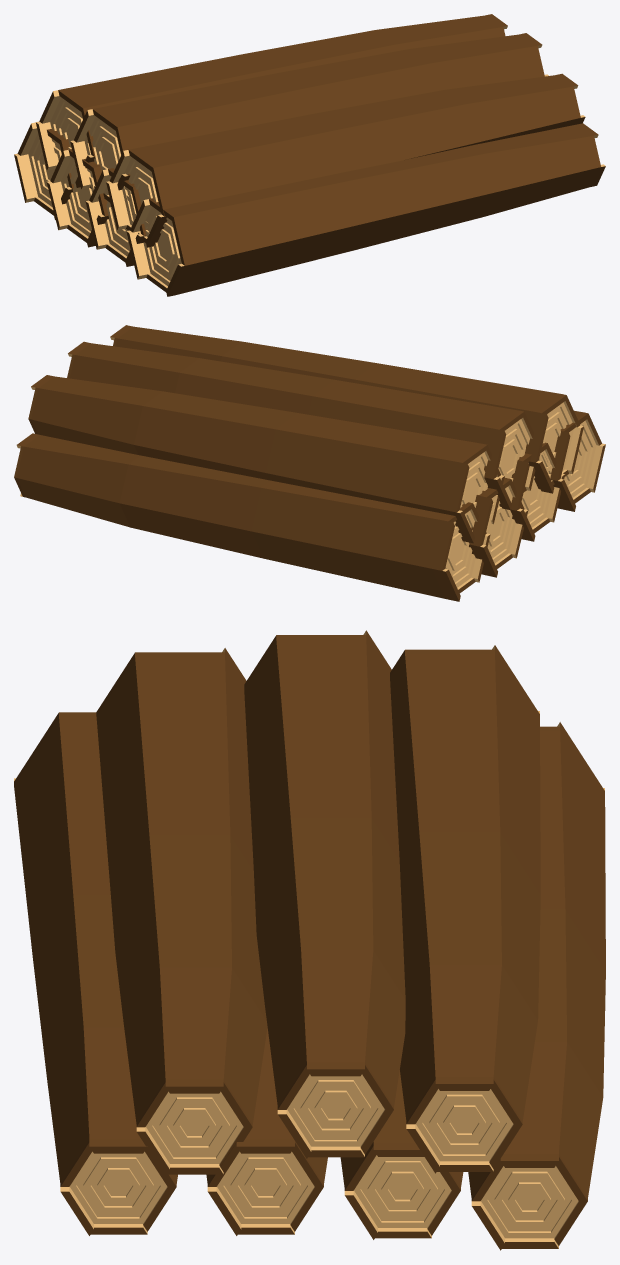
Rendered from TRONCO02.fbx.
The picture shows the model from 3 angles, top to bottom: view 1: azimuth 30°, elevation 25°; view 2: azimuth 150°, elevation 25°; view 3: azimuth 270°, elevation 25°; orthographic projection. The views are drawn at different scales.
Visible parts, largest first — view 1: Circle.015, Circle.017, Circle.020, Circle.021, Circle.018, Circle.019, Circle.016; view 2: Circle.019, Circle.021, Circle.020, Circle.017, Circle.018, Circle.015, Circle.016; view 3: Circle.020, Circle.017, Circle.021, Circle.015, Circle.019, Circle.016, Circle.018.
Part boxes in pixels (x1=…): Circle.015: x1=126, y1=123, x2=605, y2=296; Circle.017: x1=106, y1=73, x2=585, y2=247; Circle.020: x1=70, y1=33, x2=548, y2=206; Circle.021: x1=36, y1=14, x2=507, y2=187; Circle.018: x1=46, y1=149, x2=108, y2=247; Circle.019: x1=14, y1=122, x2=73, y2=219; Circle.016: x1=85, y1=168, x2=147, y2=266; Circle.019: x1=14, y1=433, x2=490, y2=601; Circle.021: x1=28, y1=375, x2=504, y2=543; Circle.020: x1=67, y1=341, x2=535, y2=510; Circle.017: x1=110, y1=325, x2=583, y2=493; Circle.018: x1=469, y1=478, x2=528, y2=577; Circle.015: x1=549, y1=410, x2=605, y2=511; Circle.016: x1=510, y1=442, x2=565, y2=541; Circle.020: x1=244, y1=630, x2=405, y2=1158; Circle.017: x1=96, y1=648, x2=267, y2=1176; Circle.021: x1=390, y1=645, x2=540, y2=1173; Circle.015: x1=14, y1=712, x2=177, y2=1235; Circle.019: x1=468, y1=722, x2=605, y2=1250; Circle.016: x1=206, y1=1028, x2=327, y2=1235; Circle.018: x1=340, y1=1070, x2=463, y2=1239.
Size of the model in its own units: 1177 by 335 by 743.
